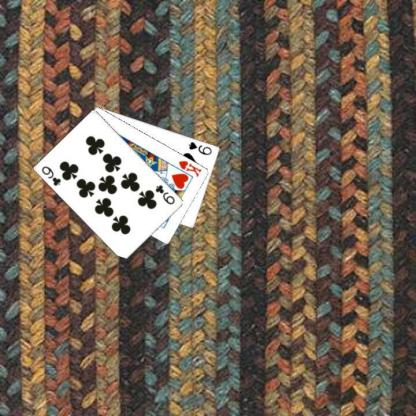9C: (153, 182, 176, 206), (40, 164, 62, 187)
9S: (186, 139, 213, 156)
KH: (176, 158, 203, 178)
